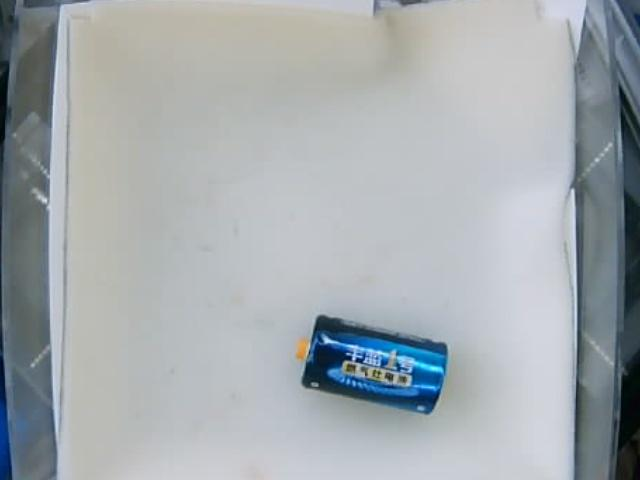Battery: (291, 314, 450, 416)
